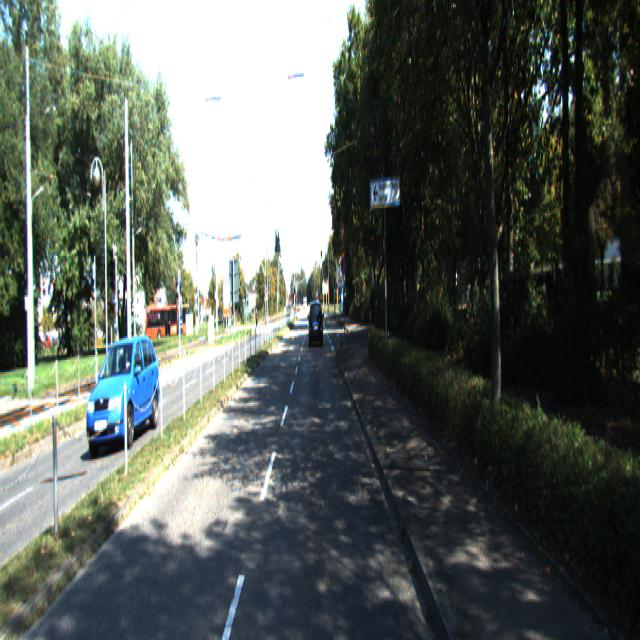Car: (86, 329, 161, 450), (309, 301, 324, 348)
DontCare: (143, 290, 194, 340)
